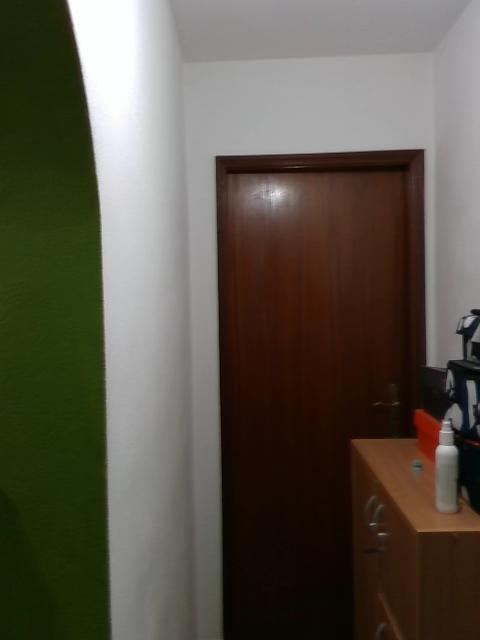door: (231, 168, 402, 640)
